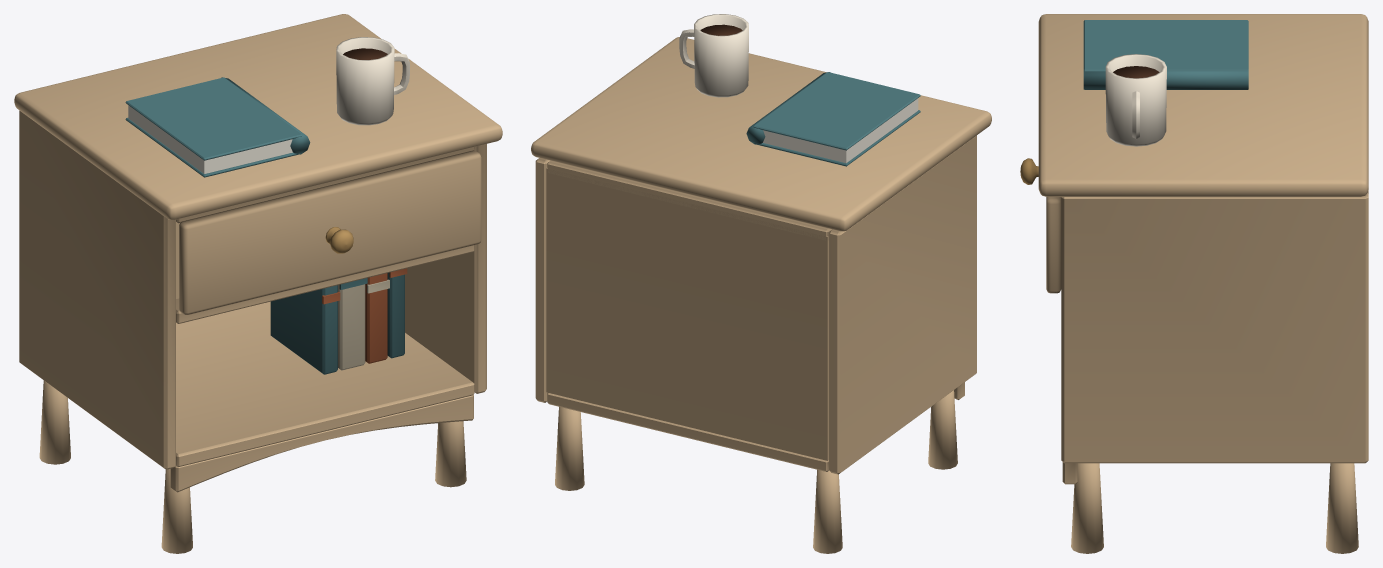
Rendered from nightstand.glb.
3 views of the same model, side by side, from view 1: azimuth 30°, elevation 25°; view 2: azimuth 150°, elevation 25°; view 3: azimuth 270°, elevation 25° (orthographic). The views are drawn at different scales.
Parts seen in each view (by area): view 1: nightstand; view 2: nightstand; view 3: nightstand.
Boxes of the visible parts, left/top/right/bottom form: nightstand: left=14, top=14, right=502, bottom=553; nightstand: left=531, top=14, right=991, bottom=553; nightstand: left=1020, top=14, right=1368, bottom=553.
Bounding box in the file's own units: 0.54 × 0.66 × 0.4646.
